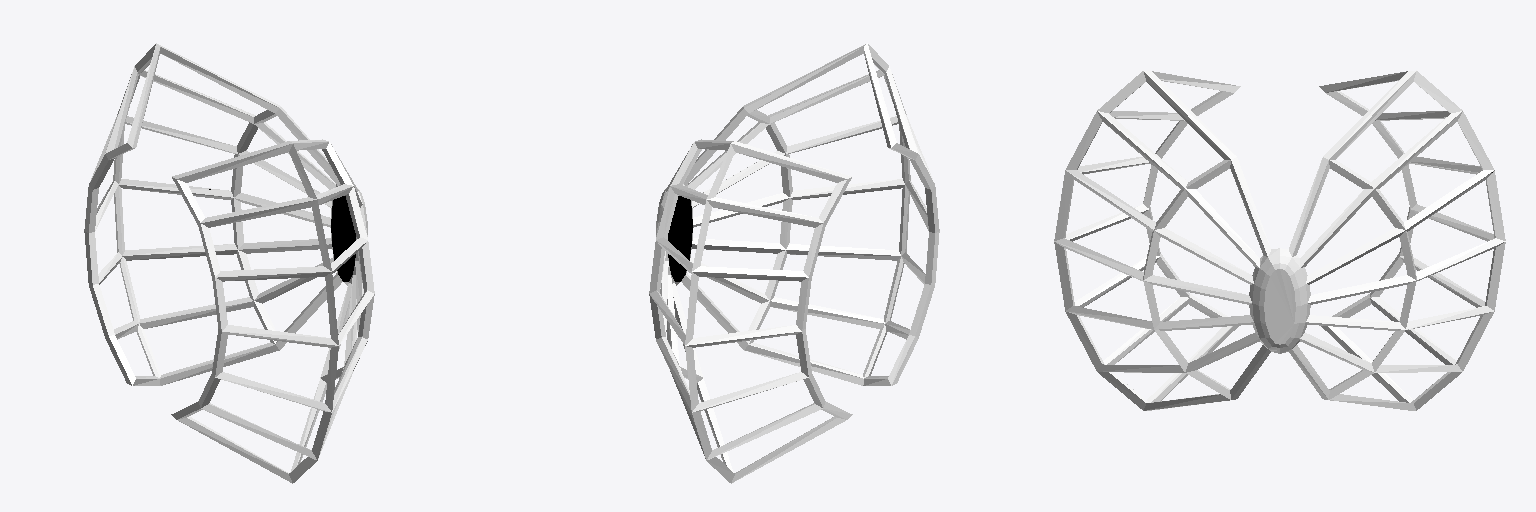
The picture shows the model from 3 angles: view 1: azimuth 30°, elevation 25°; view 2: azimuth 150°, elevation 25°; view 3: azimuth 270°, elevation 25°; orthographic projection.
Visible parts, largest first — view 1: Circle; view 2: Circle; view 3: Circle.
Boxes of the visible parts, box(x1,y1,x2,y2) form: Circle: box(84, 43, 374, 483); Circle: box(649, 43, 939, 483); Circle: box(1054, 70, 1505, 410).
Bounding box in the file's own units: 4.58 × 7.15 × 8.59.
Materials: 1 (1 with a texture image).